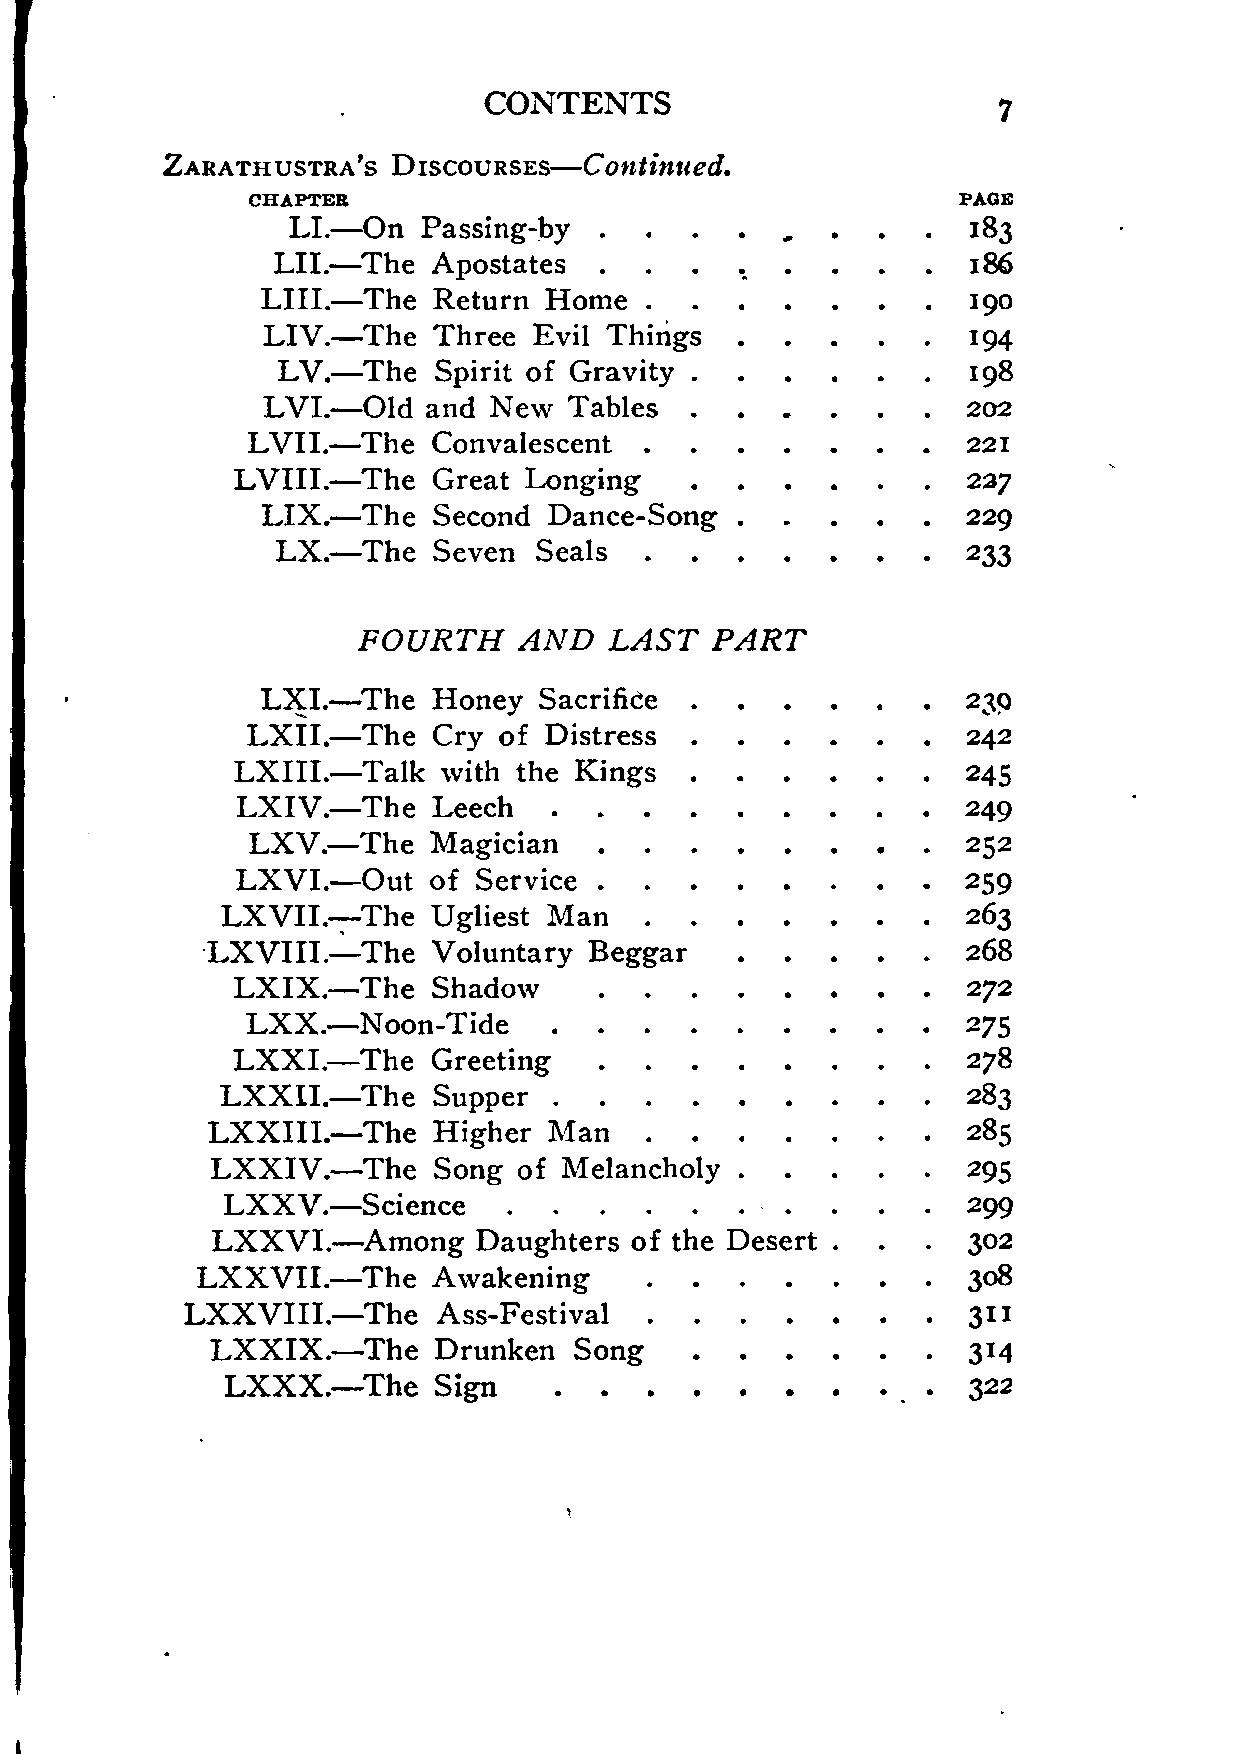TOC_chapter: (158, 144, 735, 187), (205, 1223, 824, 1256), (204, 1153, 721, 1186), (204, 935, 688, 970), (358, 624, 812, 659), (229, 463, 641, 501), (207, 1335, 648, 1370), (228, 754, 659, 789), (274, 356, 675, 391), (260, 322, 706, 353), (178, 1298, 615, 1329), (272, 531, 612, 570), (192, 1260, 596, 1292), (255, 682, 659, 714), (258, 502, 718, 530), (258, 283, 632, 317), (242, 718, 659, 747), (204, 1117, 612, 1146), (260, 391, 663, 420), (225, 1041, 552, 1078), (217, 899, 616, 929), (242, 825, 564, 862), (242, 427, 615, 458), (282, 211, 574, 248), (215, 1369, 503, 1406), (215, 1082, 530, 1114), (232, 864, 578, 892), (238, 1005, 513, 1040), (268, 246, 568, 276), (232, 789, 514, 821), (231, 976, 541, 1001), (221, 1189, 470, 1219)
TOC_pagenumber: (966, 213, 1015, 250), (964, 900, 1015, 934), (964, 1079, 1015, 1113), (969, 1337, 1017, 1372), (964, 761, 1015, 793), (961, 721, 1016, 750), (966, 1259, 1015, 1292), (965, 832, 1015, 864), (964, 466, 1015, 497), (962, 503, 1015, 533), (964, 539, 1015, 569), (968, 1302, 1016, 1333), (966, 1115, 1012, 1147), (961, 395, 1015, 421), (964, 688, 1015, 717), (968, 358, 1016, 388), (964, 1047, 1016, 1074), (964, 976, 1015, 1002), (964, 870, 1013, 896), (968, 289, 1015, 317), (964, 431, 1015, 456), (964, 798, 1015, 824), (966, 251, 1016, 276), (964, 1013, 1013, 1039), (966, 1194, 1015, 1220), (968, 1228, 1012, 1255), (966, 1377, 1016, 1400), (966, 935, 1011, 961), (968, 327, 1013, 352), (966, 1159, 1012, 1184)
chapter: (479, 83, 678, 122)
